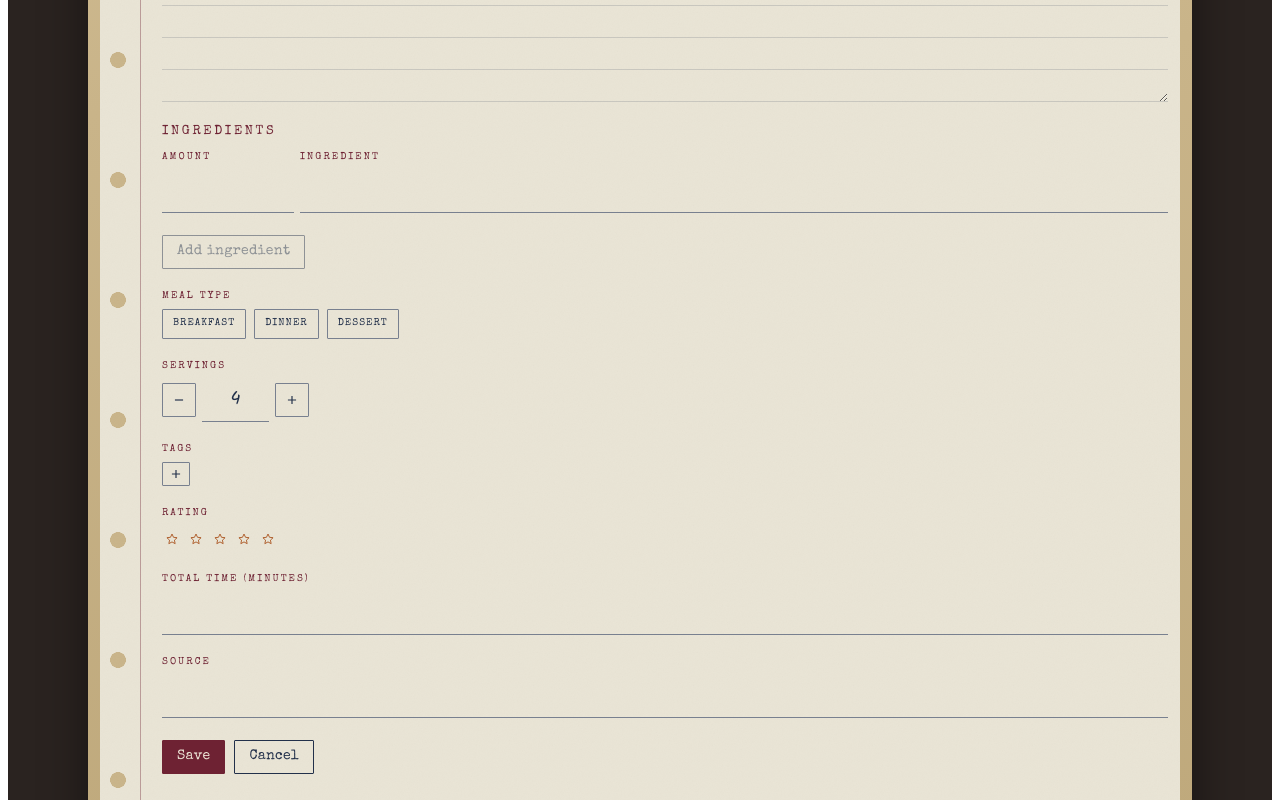
Test: the form › gives servings the same stepper capture has
The width and height of the screenshot is (1280, 800).
(page scrolled)
What coordinates should you click on to do the following:
click the button with test id "servings-up"
I would click on:
 (292, 400)
Its box is [275,383,309,417].
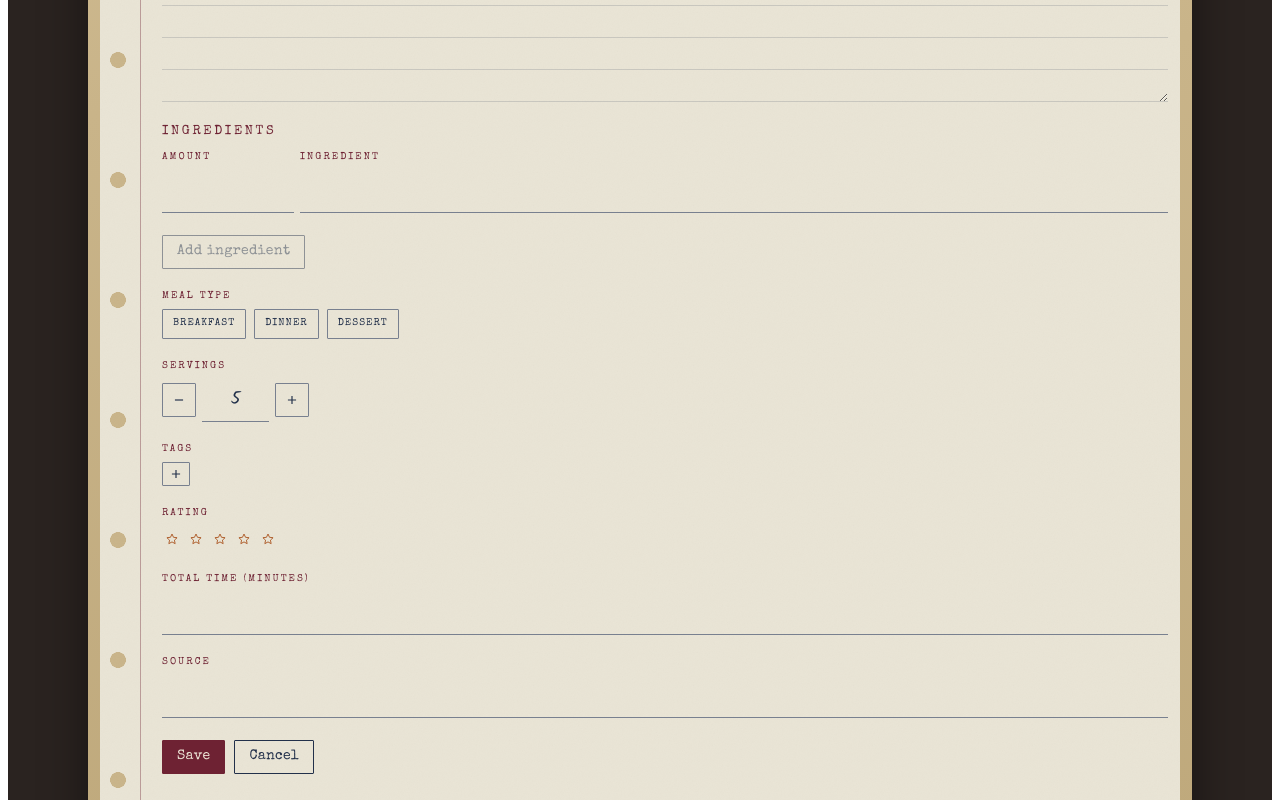
Result: the field with test id "servings" holds "5" at [202,378,269,422]
